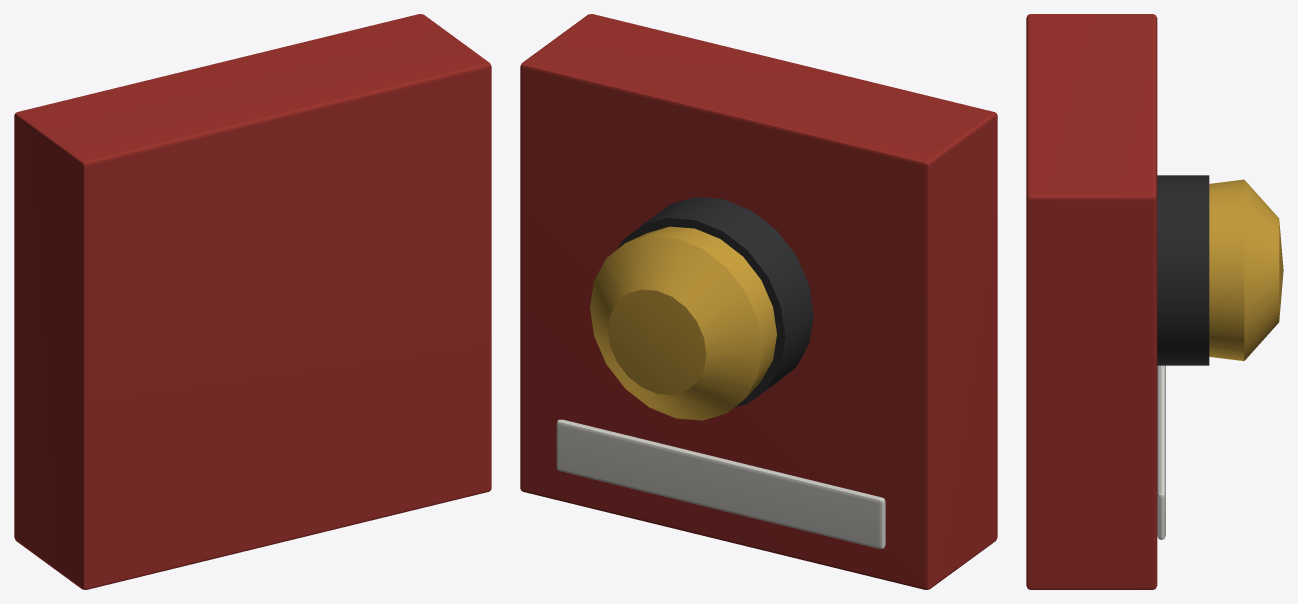
The model's file is prop_alarm_button.glb.
The picture shows the model from 3 angles, left to right: view 1: azimuth 30°, elevation 25°; view 2: azimuth 150°, elevation 25°; view 3: azimuth 270°, elevation 25°; orthographic projection. The views are drawn at different scales.
Visible parts, largest first — view 1: Panel; view 2: Panel, Button; view 3: Panel, Button.
Part boxes in pixels (box(x1,y1,x2,y2)): Panel: box(14, 14, 491, 589); Panel: box(520, 14, 997, 589); Button: box(590, 197, 813, 420); Panel: box(1026, 14, 1165, 589); Button: box(1157, 175, 1283, 365).
Bounding box in the file's own units: 0.1 × 0.1 × 0.059.
